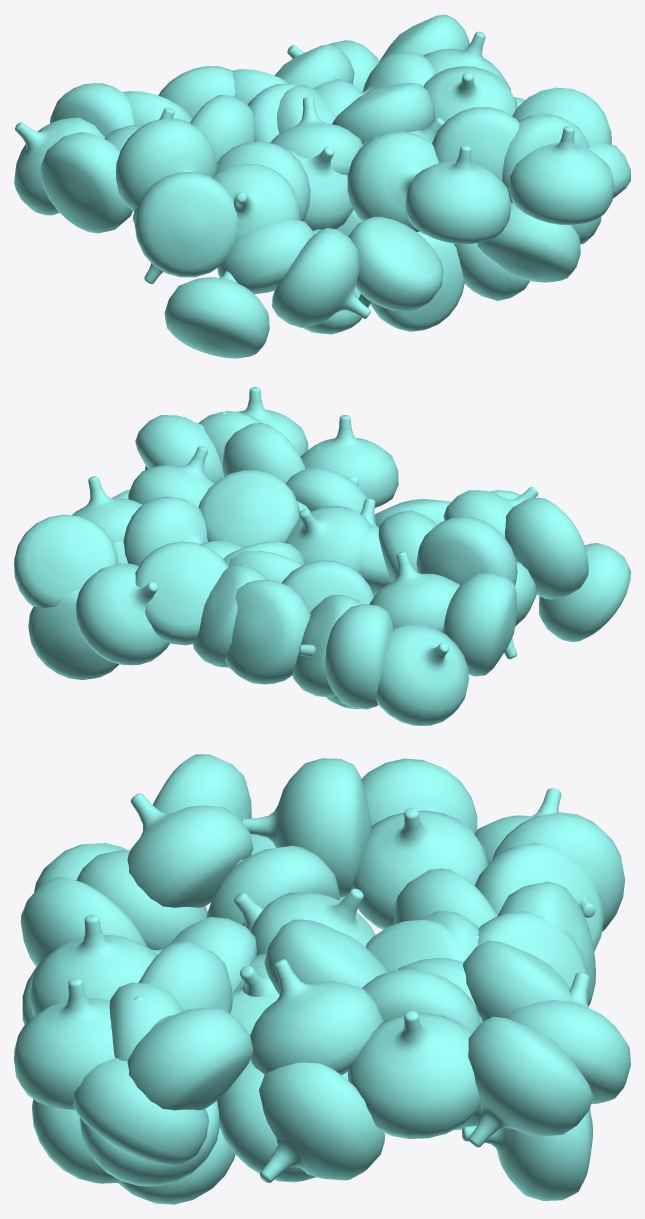
The model's file is Ajos_Grande.FBX.
3 views of the same model, one above another, from view 1: azimuth 30°, elevation 25°; view 2: azimuth 150°, elevation 25°; view 3: azimuth 270°, elevation 25° (orthographic). The views are drawn at different scales.
Visible parts, largest first — view 1: Ajo_low175, Ajo_low204, Ajo_low178, Ajo_low153, Ajo_low154, Ajo_low171, Ajo_low177, Ajo_low190, Ajo_low167, Ajo_low179, Ajo_low176, Ajo_low184 (+27 smaller); view 2: Ajo_low169, Ajo_low168, Ajo_low172, Ajo_low195, Ajo_low194, Ajo_low184, Ajo_low175, Ajo_low174, Ajo_low171, Ajo_low153, Ajo_low167, Ajo_low200 (+21 smaller); view 3: Ajo_low191, Ajo_low168, Ajo_low203, Ajo_low157, Ajo_low193, Ajo_low183, Ajo_low167, Ajo_low165, Ajo_low178, Ajo_low202, Ajo_low195, Ajo_low204 (+29 smaller).
Boxes of the visible parts, x1=… form: Ajo_low175: x1=134, y1=172, x2=237, y2=277; Ajo_low204: x1=405, y1=145, x2=511, y2=243; Ajo_low178: x1=508, y1=126, x2=614, y2=224; Ajo_low153: x1=164, y1=271, x2=269, y2=358; Ajo_low154: x1=348, y1=216, x2=443, y2=311; Ajo_low171: x1=40, y1=132, x2=132, y2=233; Ajo_low177: x1=272, y1=227, x2=370, y2=327; Ajo_low190: x1=347, y1=131, x2=438, y2=232; Ajo_low167: x1=115, y1=118, x2=217, y2=211; Ajo_low179: x1=477, y1=202, x2=580, y2=282; Ajo_low176: x1=217, y1=219, x2=314, y2=294; Ajo_low184: x1=332, y1=82, x2=435, y2=143; Ajo_low169: x1=376, y1=624, x2=468, y2=725; Ajo_low168: x1=14, y1=514, x2=117, y2=608; Ajo_low172: x1=225, y1=580, x2=310, y2=684; Ajo_low195: x1=75, y1=563, x2=169, y2=665; Ajo_low194: x1=135, y1=541, x2=228, y2=645; Ajo_low184: x1=198, y1=470, x2=300, y2=547; Ajo_low175: x1=505, y1=497, x2=588, y2=599; Ajo_low174: x1=299, y1=604, x2=393, y2=709; Ajo_low171: x1=442, y1=572, x2=516, y2=676; Ajo_low153: x1=539, y1=543, x2=630, y2=642; Ajo_low167: x1=416, y1=517, x2=517, y2=585; Ajo_low200: x1=28, y1=589, x2=119, y2=679; Ajo_low191: x1=347, y1=1010, x2=481, y2=1138; Ajo_low168: x1=468, y1=1016, x2=593, y2=1147; Ajo_low203: x1=259, y1=1062, x2=384, y2=1182; Ajo_low157: x1=127, y1=793, x2=253, y2=907; Ajo_low193: x1=250, y1=959, x2=383, y2=1074; Ajo_low183: x1=127, y1=996, x2=253, y2=1110; Ajo_low167: x1=241, y1=758, x2=371, y2=897; Ajo_low165: x1=351, y1=808, x2=487, y2=929; Ajo_low178: x1=14, y1=978, x2=115, y2=1109; Ajo_low202: x1=73, y1=1058, x2=209, y2=1165; Ajo_low195: x1=506, y1=972, x2=630, y2=1104; Ajo_low204: x1=30, y1=914, x2=157, y2=1016.
Size of the model in its own units: 112 by 47.25 by 96.09.
